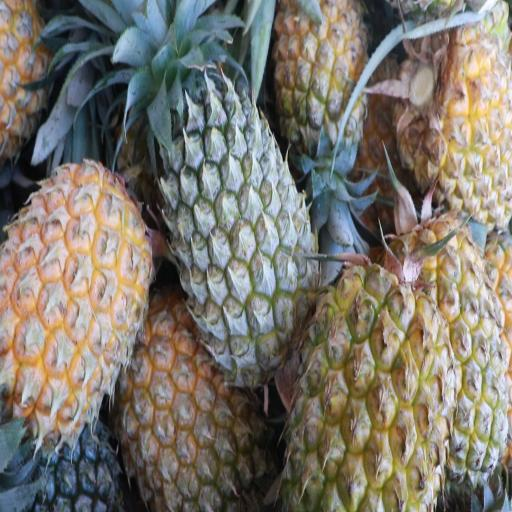------------------------------: (272, 0, 370, 187)
Pineapple - v8 v1: (0, 162, 149, 424), (286, 273, 445, 512), (116, 297, 269, 508), (389, 236, 510, 488), (386, 27, 512, 220)
